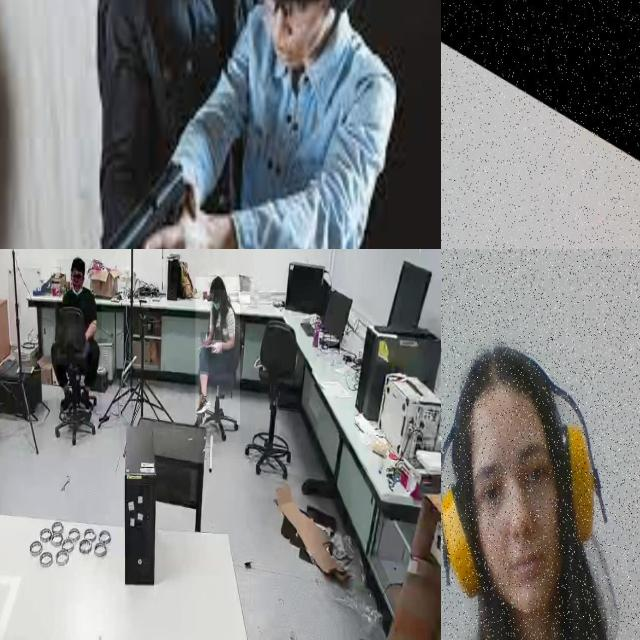Ear-protection: (441, 270, 622, 640), (253, 0, 364, 71)
face_nomask: (70, 269, 84, 290)
hand_noglove: (200, 332, 212, 345), (212, 340, 222, 354)
head_nohelmet: (210, 275, 226, 290), (71, 256, 85, 268)
person: (56, 259, 102, 410), (196, 277, 240, 425)
shoes: (78, 384, 95, 416), (194, 389, 210, 418)
